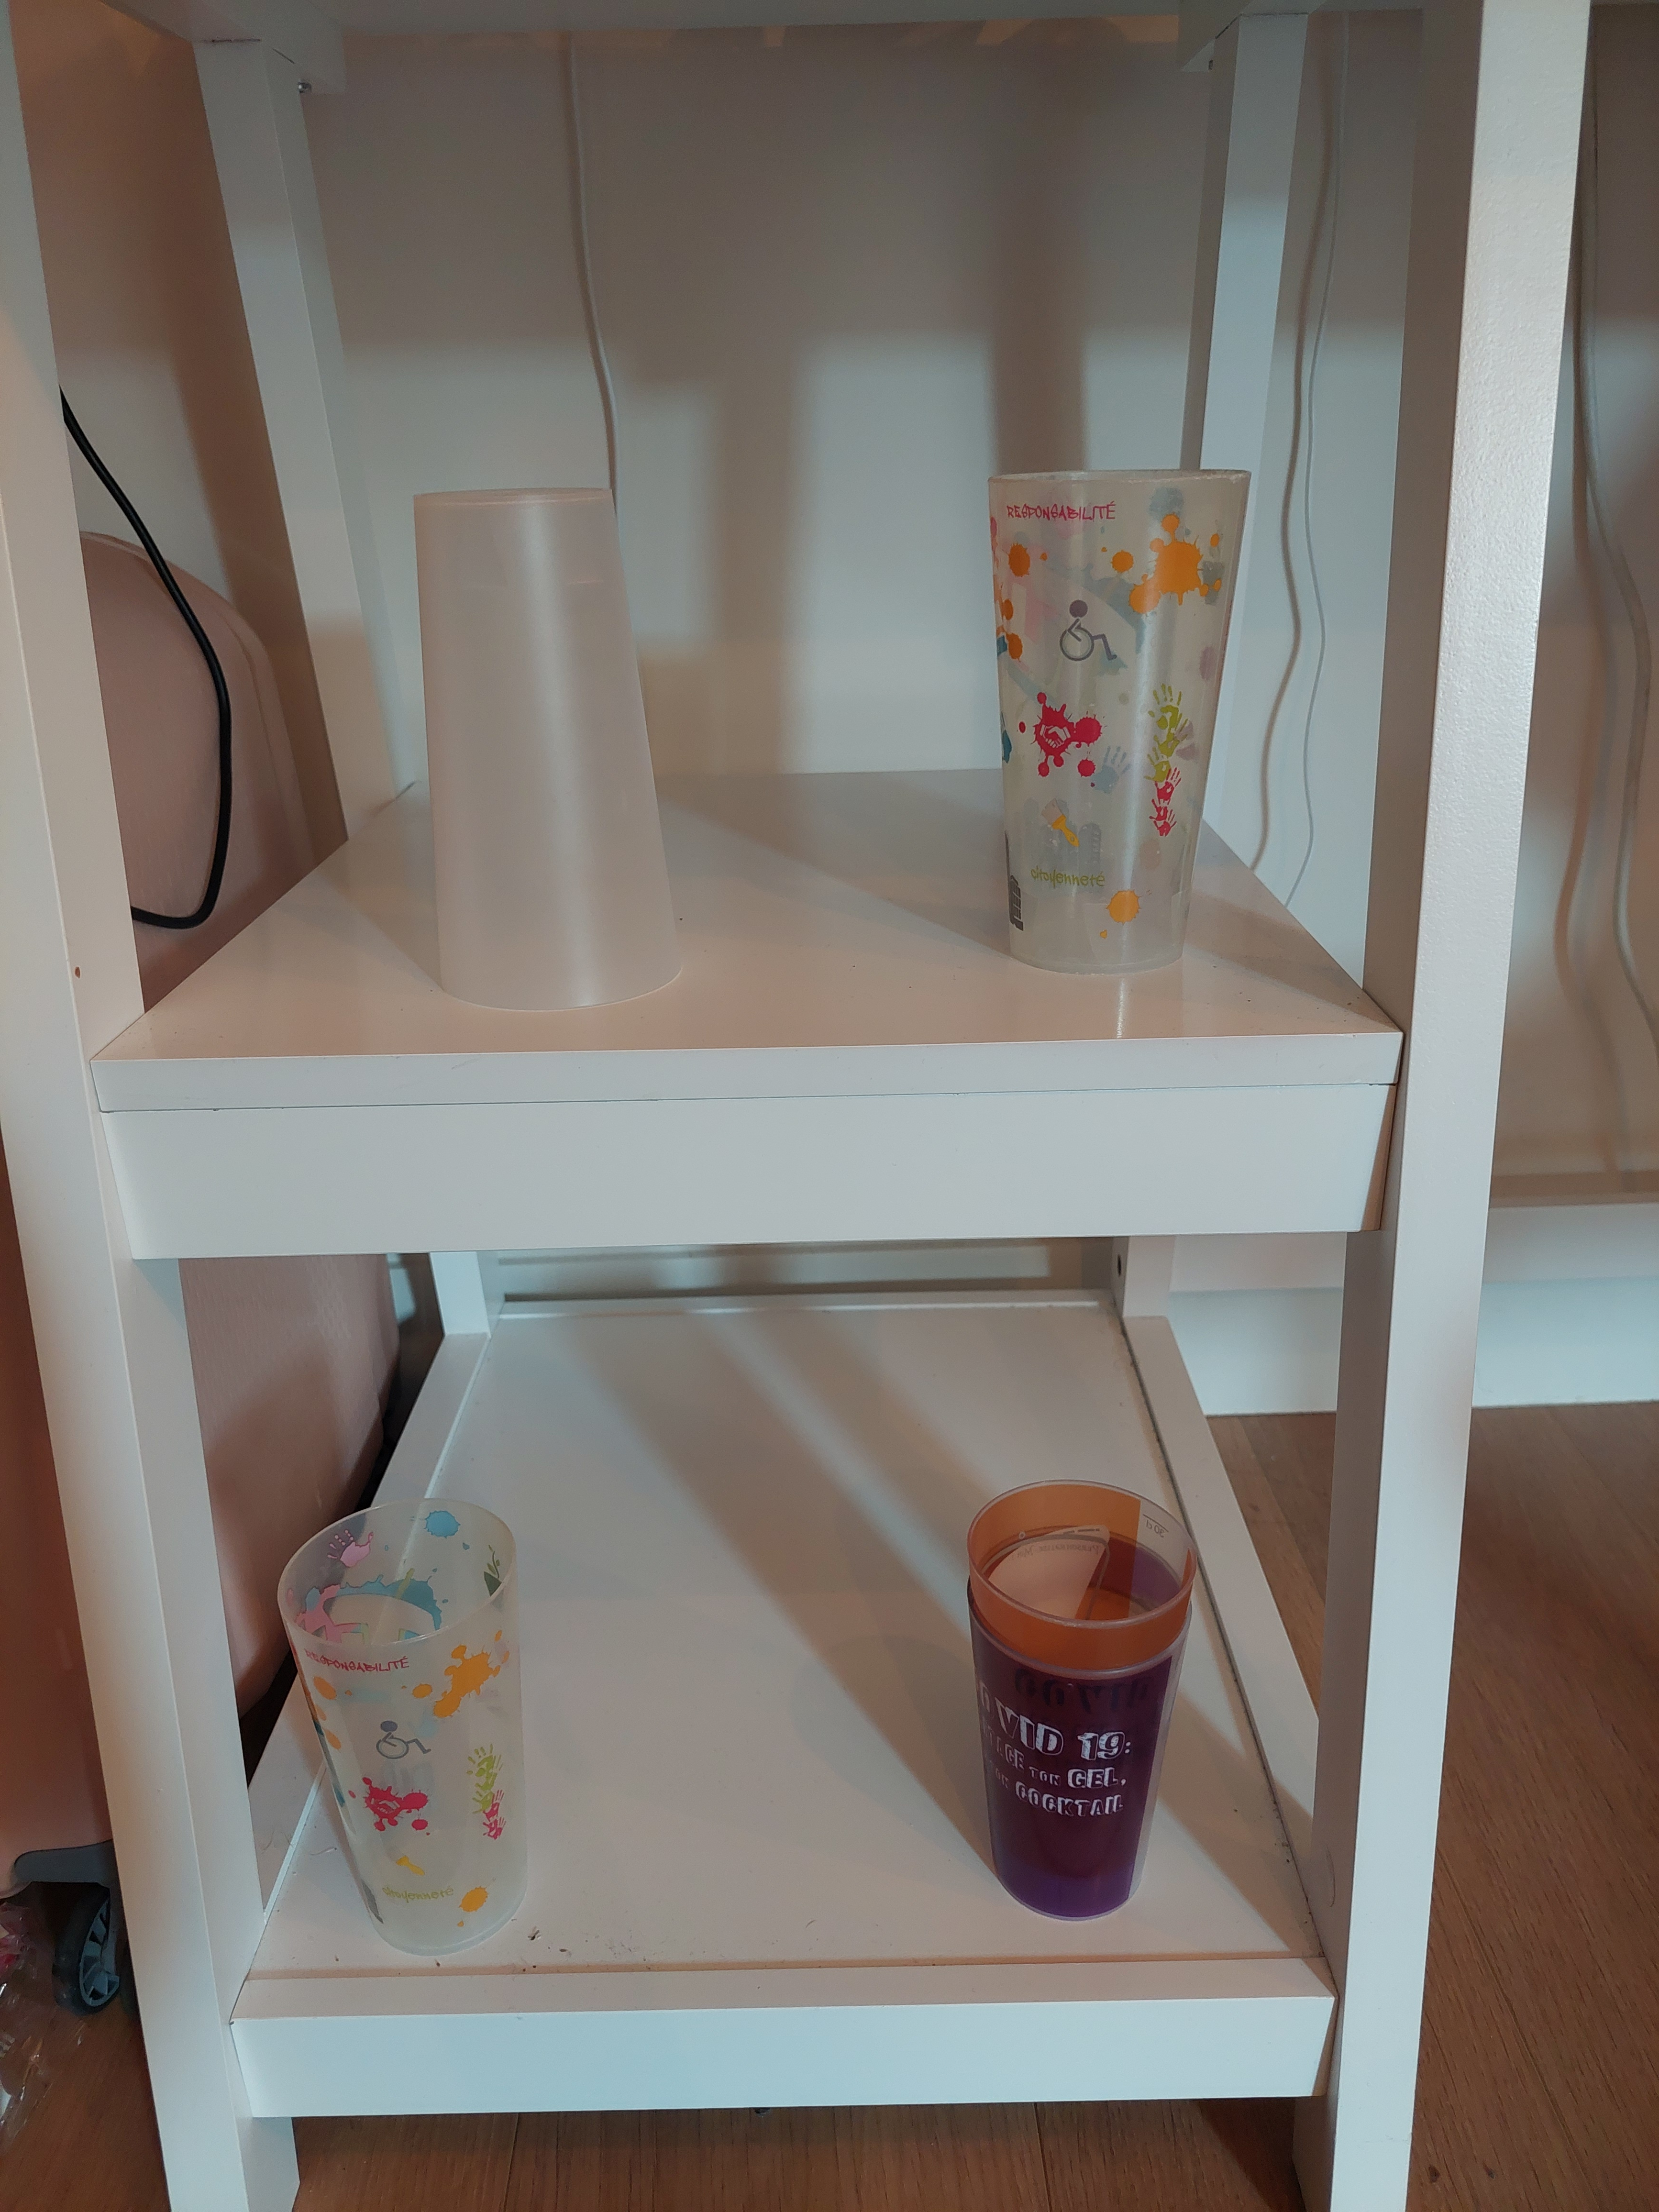ecocup: (396, 484, 695, 1019), (263, 1494, 559, 1963), (981, 470, 1253, 977), (951, 1472, 1208, 1942)
